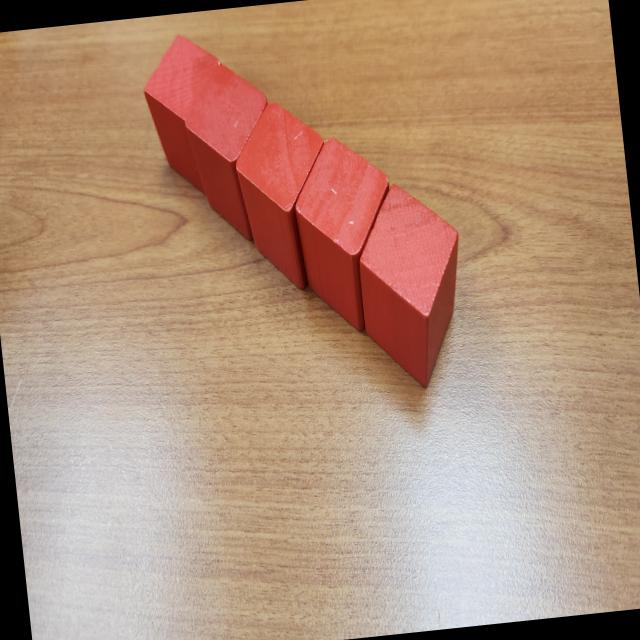red: (359, 182, 457, 387), (294, 138, 390, 335), (236, 102, 323, 289), (185, 63, 267, 243), (143, 34, 222, 193)
